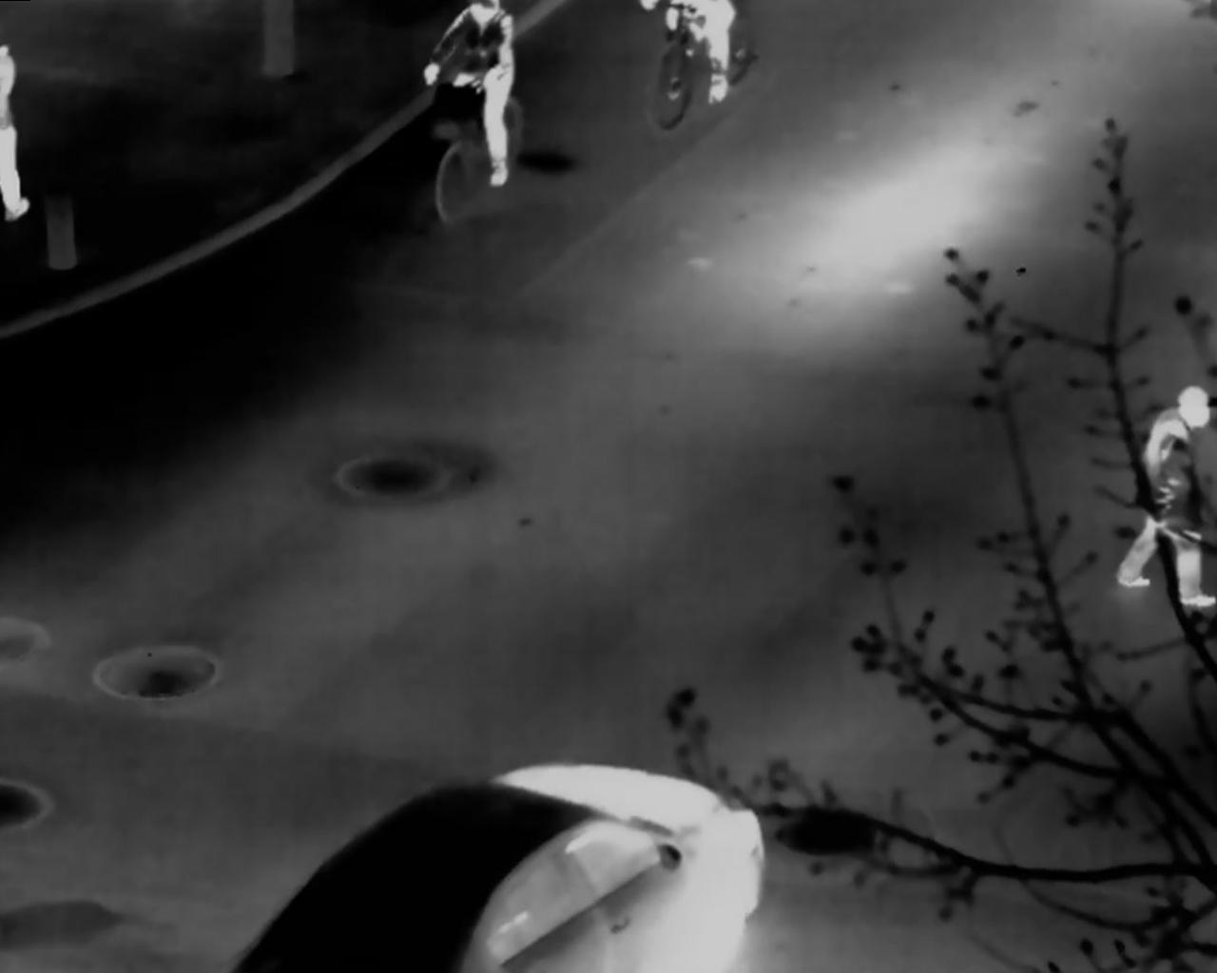person: (1113, 383, 1217, 608)
